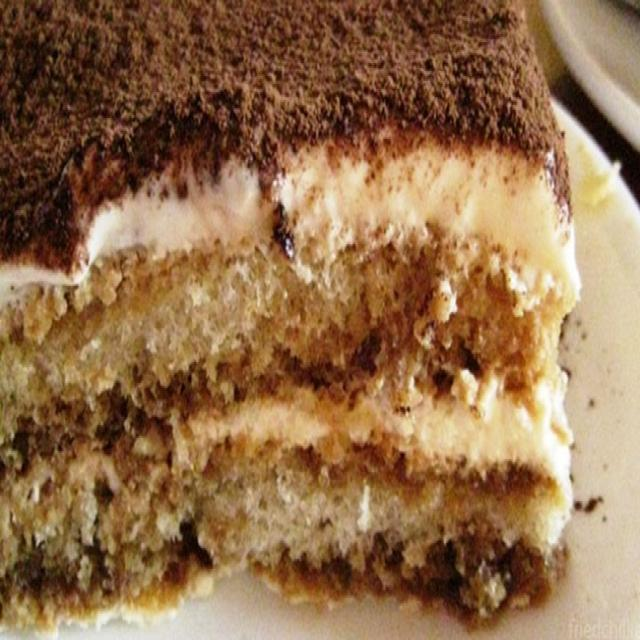蛋糕甜品: (7, 2, 620, 632)
